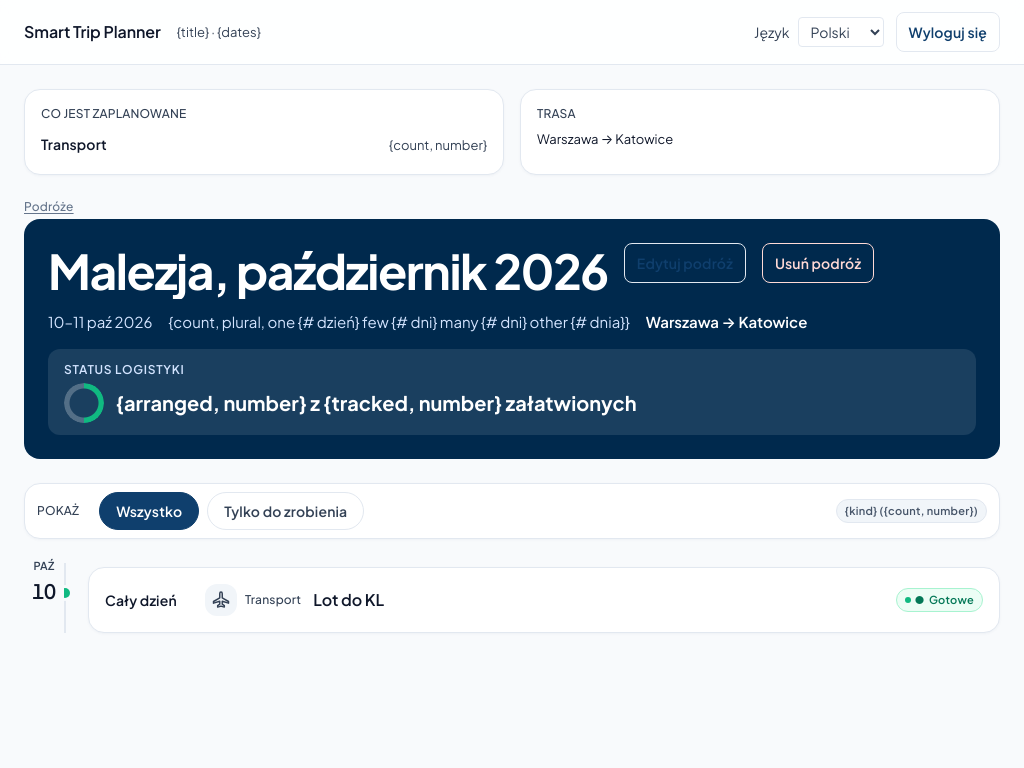
Scenario: the filter bar on the timeline › says so when a day’s items are all filtered out
Expected: the text "Lot do KL" is shown, [313,589,384,610]
Click the radio button labelled "Tylko do zrobienia" at {"x": 286, "y": 511}, box [207,492,364,530]
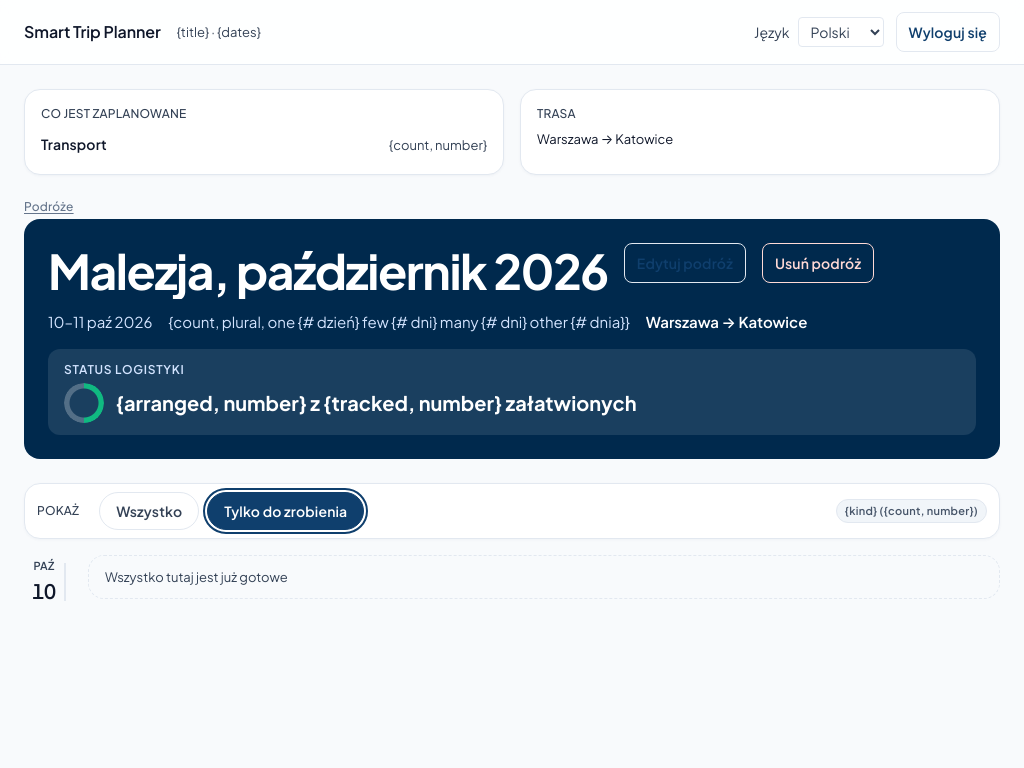
Result: the text "Wszystko tutaj jest już gotowe" is shown at [88,555,1000,599]
